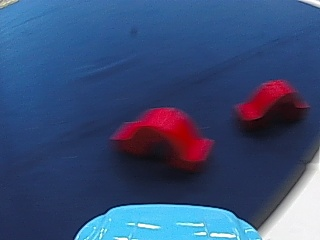bridge: (106, 100, 220, 170), (230, 76, 307, 132)
